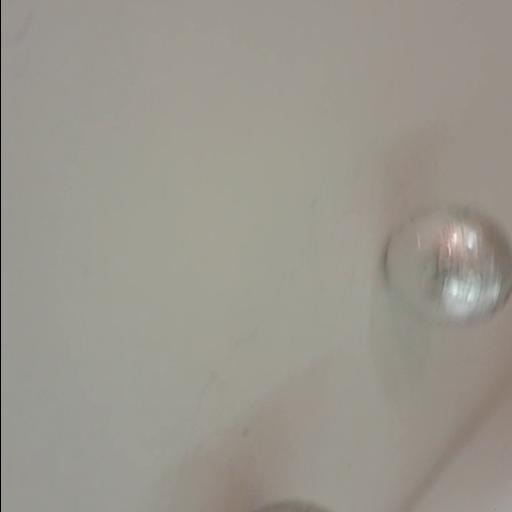alive: (384, 202, 512, 329)
